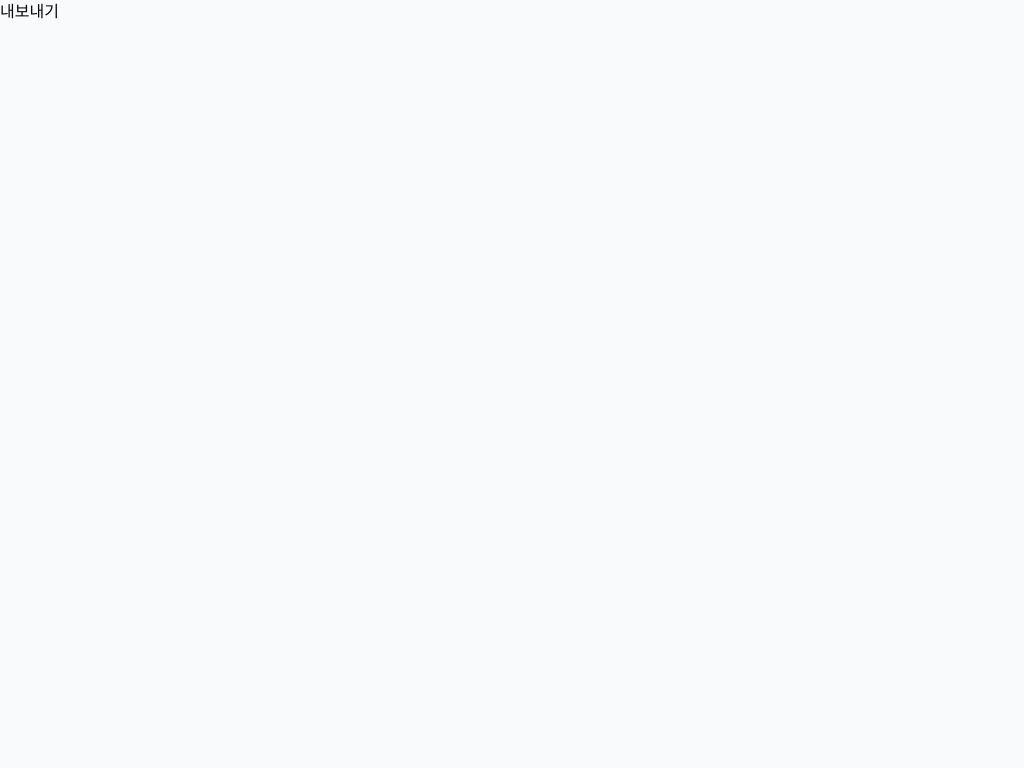
[Story 7.1] ExportOptionsModal › [AC1] Cancel Action › should close modal when cancel button is clicked
Note: Open modal and click cancel
Click the button "내보내기": {"x": 29, "y": 12} [0, 0, 59, 24]
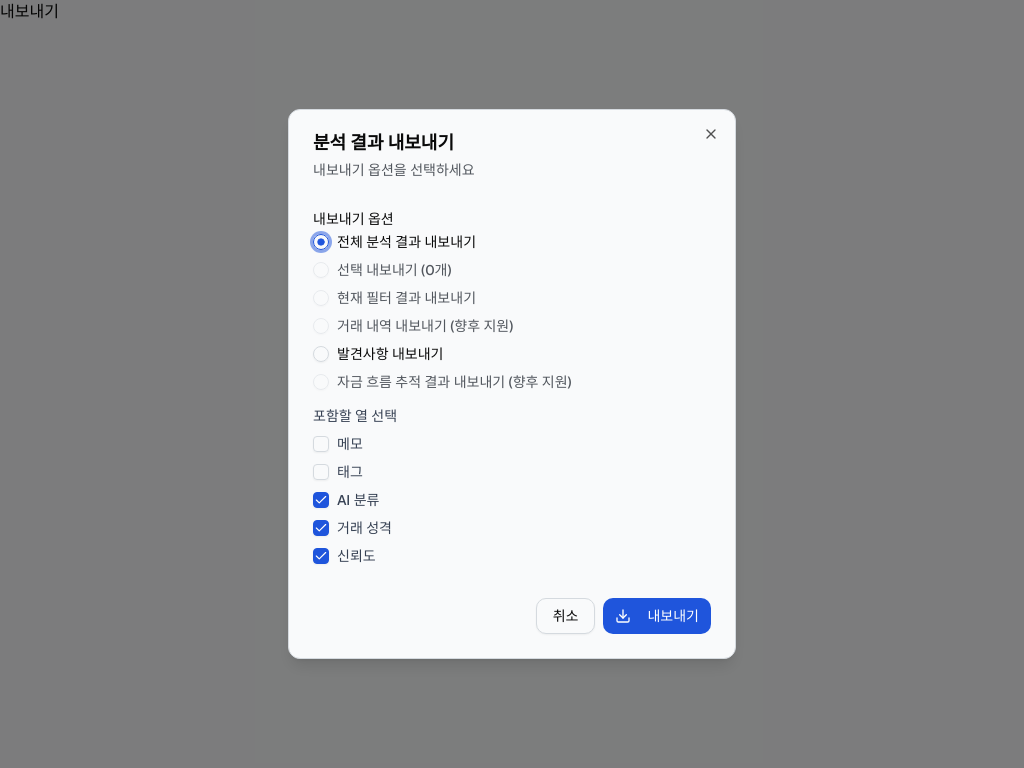
Check: the button "취소" is shown
Click the button "취소": {"x": 566, "y": 616} [536, 598, 596, 634]
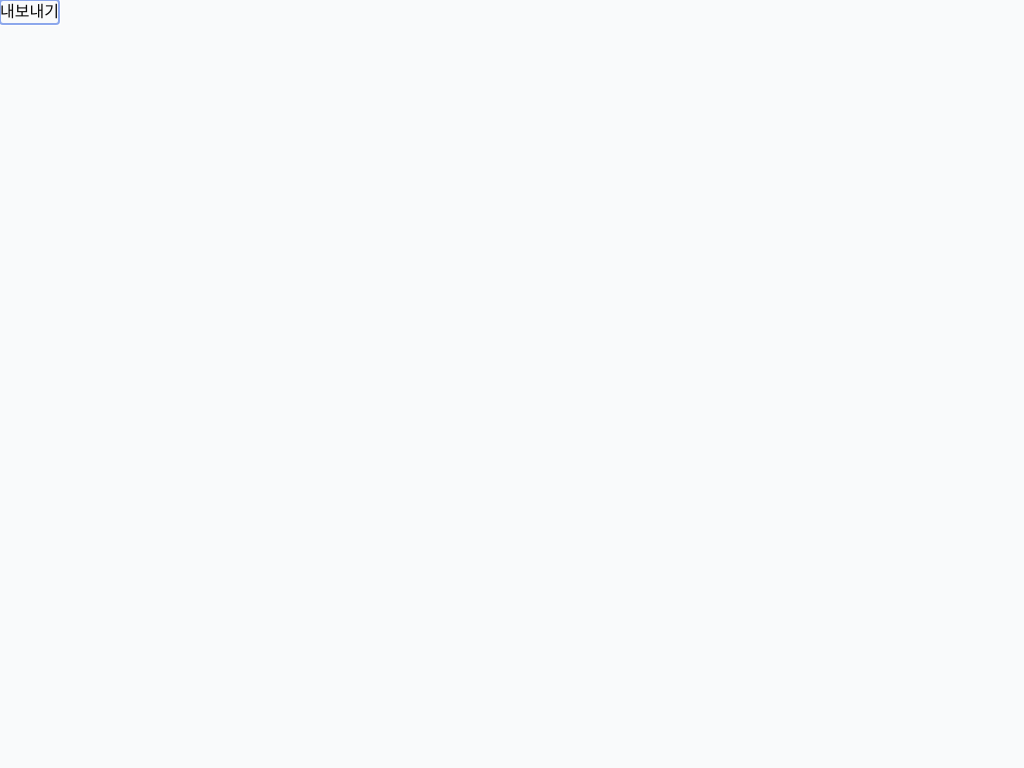
Check: the heading "분석 결과 내보내기" is gone
